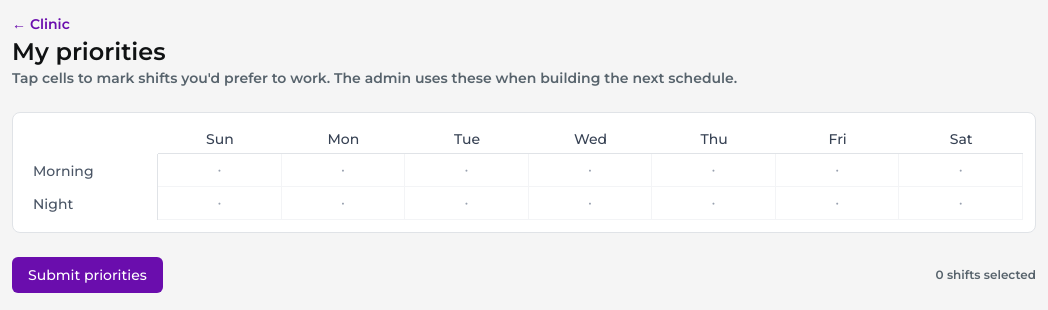
Scenario: PrioritiesClient › submits selected priorities via submitPriorities
The width and height of the screenshot is (1048, 310).
Expected: the button "Submit priorities" is shown, [12, 257, 163, 293]
Click the 1st cell with class "cursor-pointer".
click(220, 170)  # box [158, 154, 282, 187]
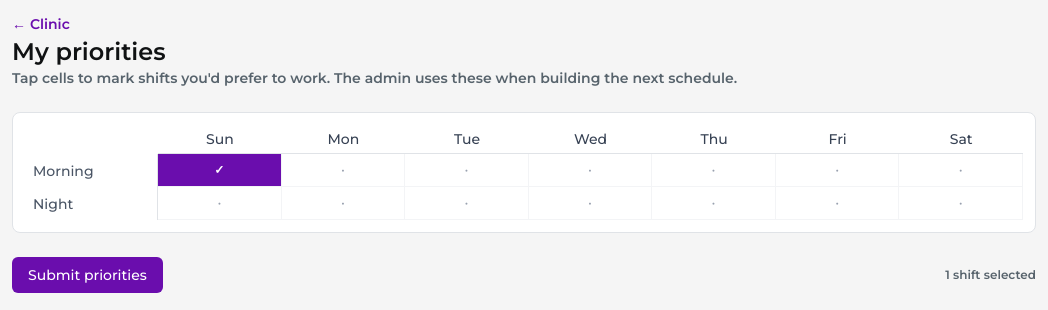
Click the button "Submit priorities".
click(87, 275)  # box [12, 257, 163, 293]
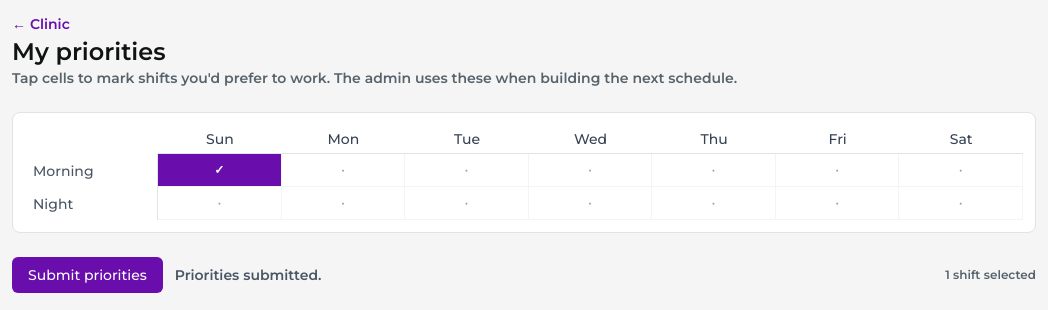
Now the text "Priorities submitted." is shown, box [175, 265, 322, 285]
